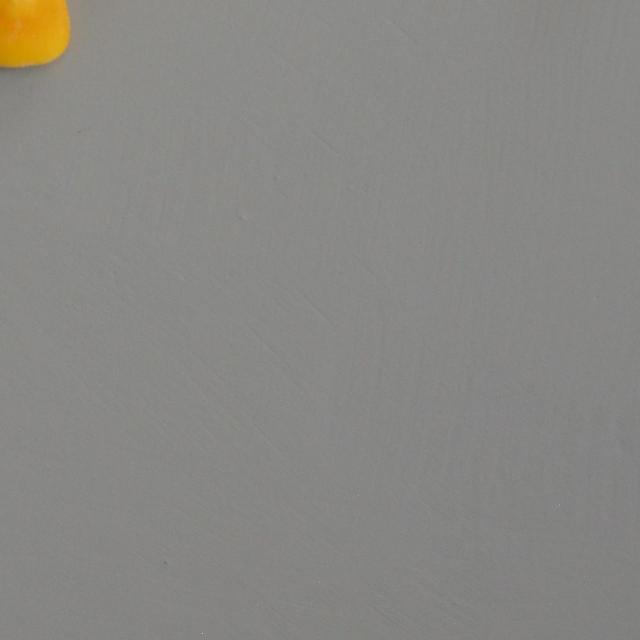no_canjicado: (0, 0, 72, 69)
